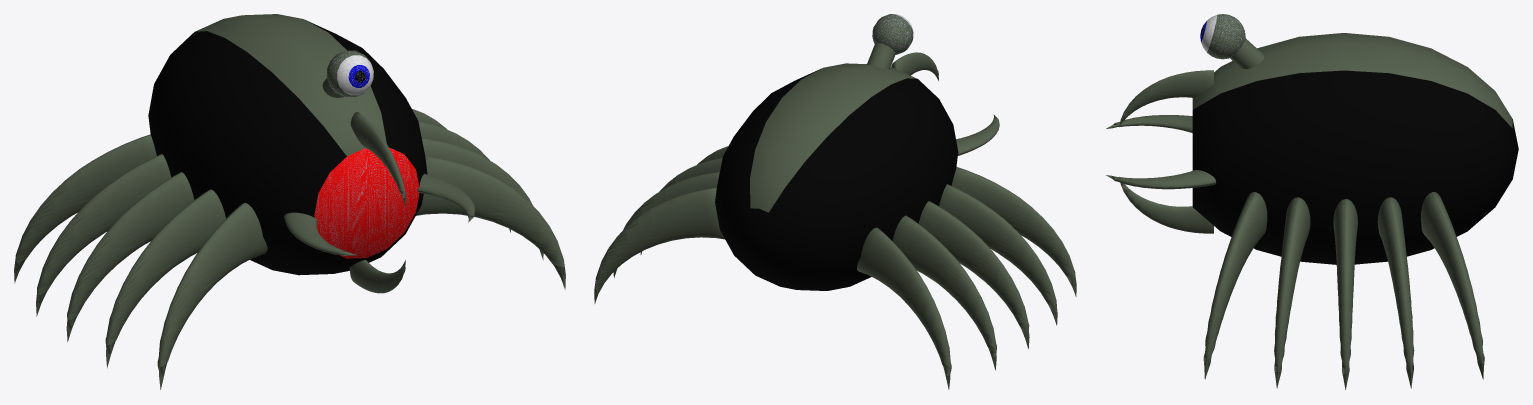
Rendered from Microb.dae.
3 renders of one model, left to right at view 1: azimuth 30°, elevation 25°; view 2: azimuth 150°, elevation 25°; view 3: azimuth 270°, elevation 25°, orthographic. The views are drawn at different scales.
Visible parts, largest first — view 1: sphere (×5), Spike (×12); view 2: sphere (×3), Spike (×10), cylinder; view 3: sphere (×3), Spike (×14), cylinder.
Boxes of the visible parts, x1=… form: sphere (×5): x1=148, y1=14, x2=427, y2=275; Spike (×12): x1=14, y1=112, x2=565, y2=389; sphere (×3): x1=715, y1=14, x2=958, y2=290; Spike (×10): x1=594, y1=52, x2=1076, y2=389; cylinder: x1=867, y1=42, x2=895, y2=69; sphere (×3): x1=1192, y1=14, x2=1518, y2=264; Spike (×14): x1=1106, y1=70, x2=1484, y2=389; cylinder: x1=1230, y1=38, x2=1264, y2=68.
Bounding box in the file's own units: 75.55 × 63.61 × 45.97.
